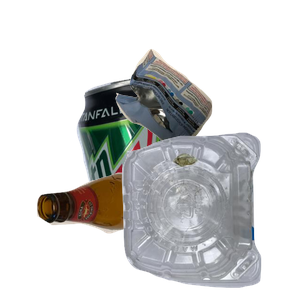glass: (34, 170, 223, 300)
metal: (74, 74, 257, 254)
plastic: (119, 130, 300, 300)
trash: (113, 46, 300, 189)
